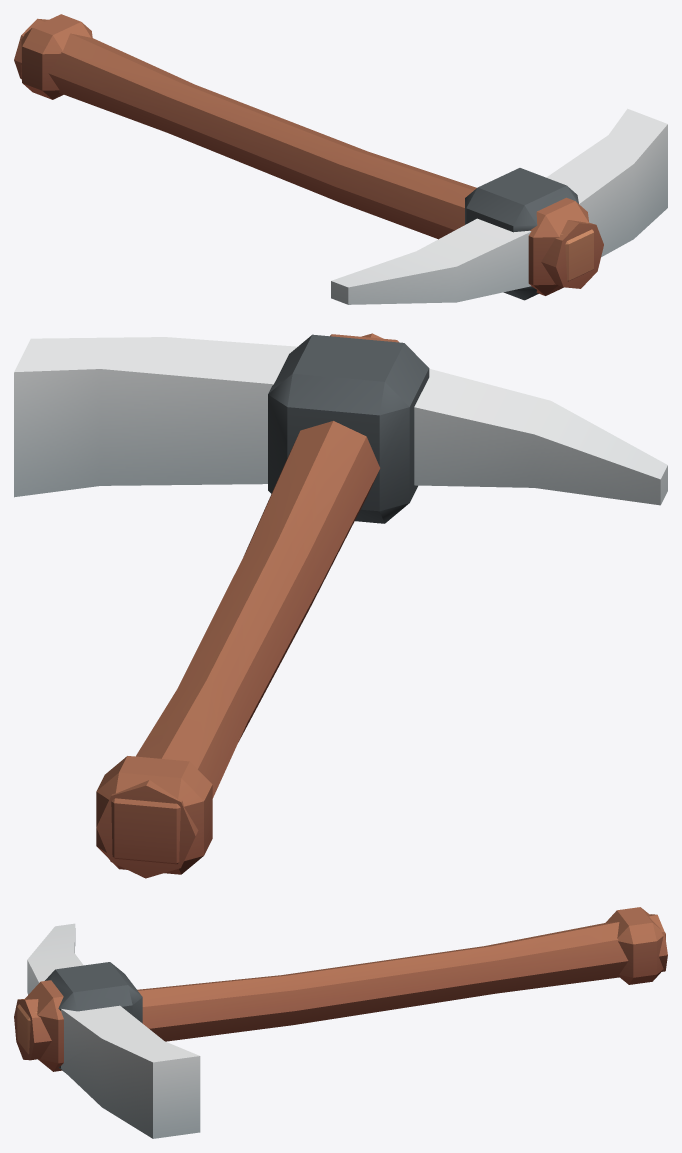
Rendered from pickaxe_loose.glb.
3 renders of one model, top to bottom at view 1: azimuth 30°, elevation 25°; view 2: azimuth 150°, elevation 25°; view 3: azimuth 270°, elevation 25°, orthographic. The views are drawn at different scales.
Visible parts, largest first — view 1: pickaxe_loose; view 2: pickaxe_loose; view 3: pickaxe_loose.
Boxes of the visible parts, <box> form: pickaxe_loose: <box>14,14,667,304</box>; pickaxe_loose: <box>14,333,667,878</box>; pickaxe_loose: <box>14,907,667,1138</box>.
Bounding box in the file's own units: 0.908 × 0.216 × 1.47.
Materials: 1 (1 with a texture image).
